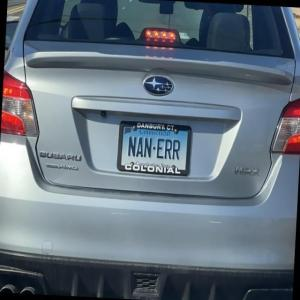Plate: (117, 121, 193, 175)
